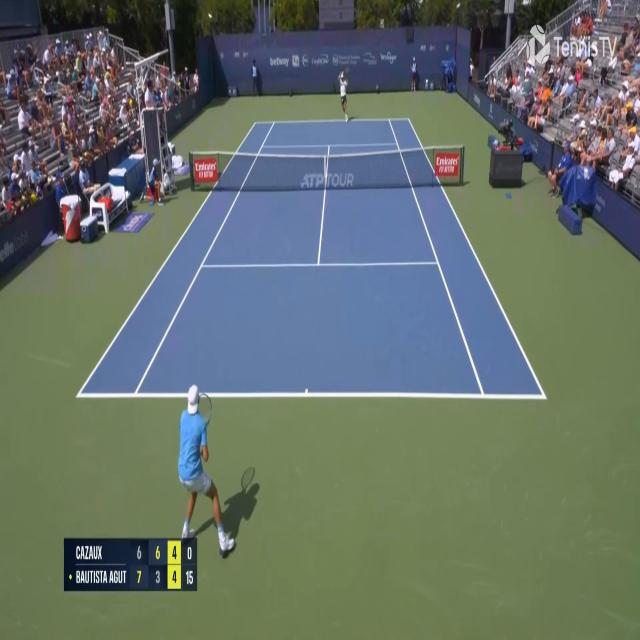tennis-player: (176, 378, 239, 559), (335, 67, 350, 124)
